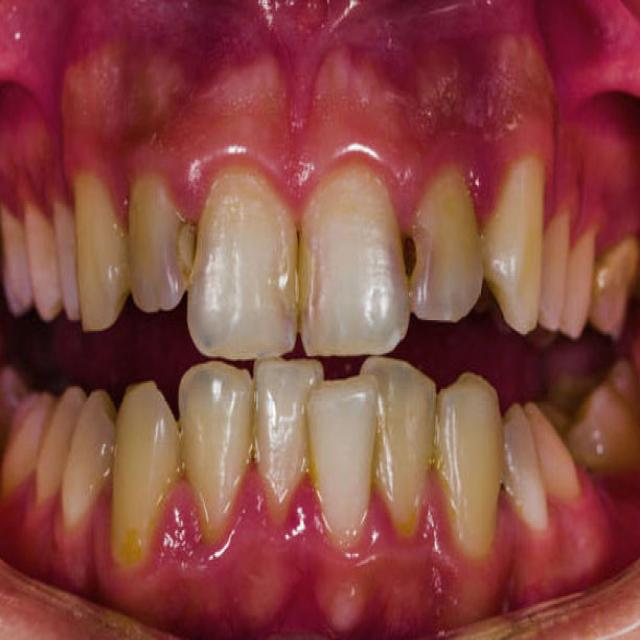caries: (161, 210, 210, 293), (276, 237, 328, 315), (390, 223, 438, 303)
